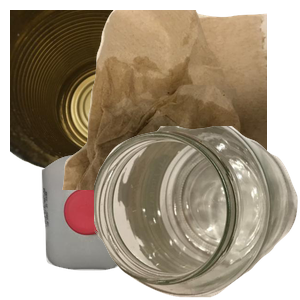glass: (94, 126, 300, 300)
metal: (10, 10, 200, 180)
plastic: (39, 149, 203, 300)
trash: (60, 10, 300, 190)
